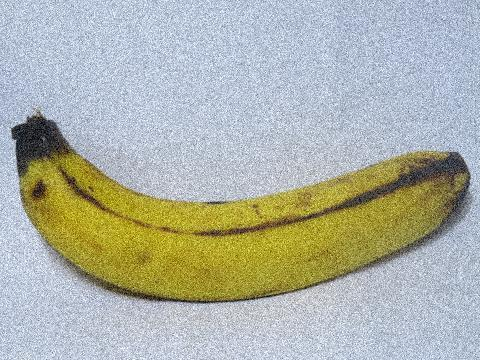ripe: (10, 93, 479, 326)
